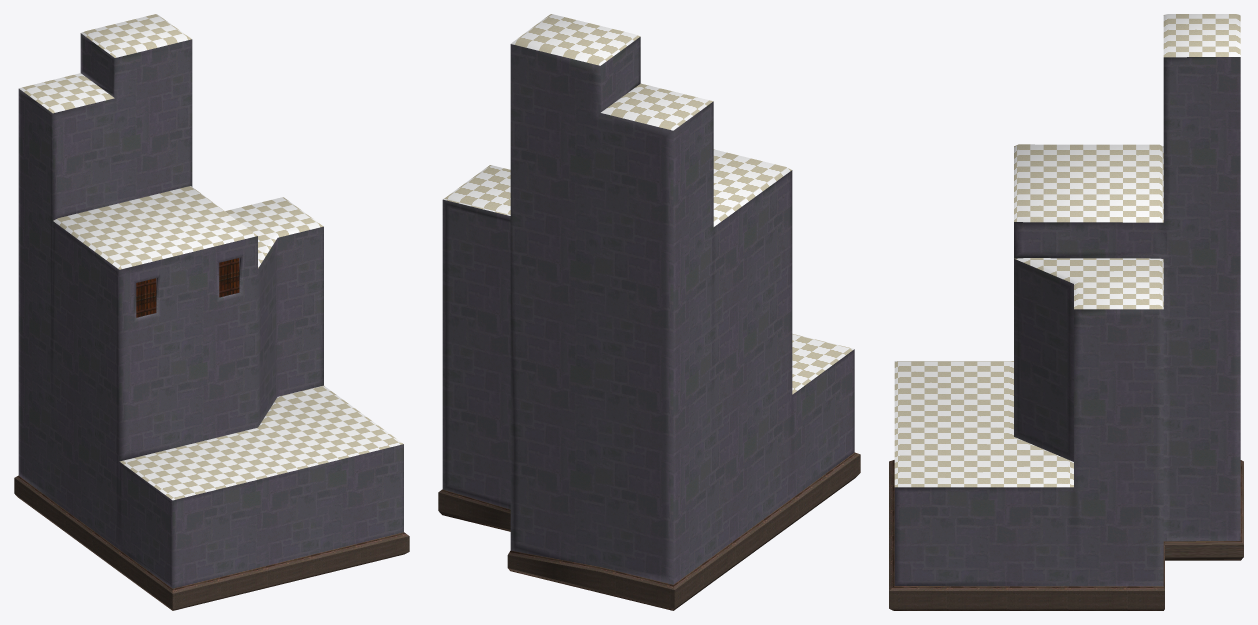
Rendered from DarkCastleStepB.fbx.
3 views of the same model, side by side, from view 1: azimuth 30°, elevation 25°; view 2: azimuth 150°, elevation 25°; view 3: azimuth 270°, elevation 25° (orthographic). The views are drawn at different scales.
Parts seen in each view (by area): view 1: Plane.003, Plane.004, Plane.005, Plane.001; view 2: Plane.003, Plane.004, Plane.005; view 3: Plane.003, Plane.004, Plane.005.
Boxes of the visible parts, x1,y1,x2,y2 form: Plane.003: [18, 33, 403, 588]; Plane.004: [19, 14, 403, 500]; Plane.005: [14, 475, 409, 610]; Plane.001: [136, 258, 239, 317]; Plane.003: [442, 37, 854, 584]; Plane.004: [443, 14, 854, 394]; Plane.005: [438, 452, 860, 610]; Plane.003: [894, 57, 1240, 586]; Plane.004: [894, 14, 1240, 487]; Plane.005: [889, 460, 1243, 610].
Size of the model in its own units: 205058 by 373798 by 237367.
Materials: 4 (4 with a texture image).
